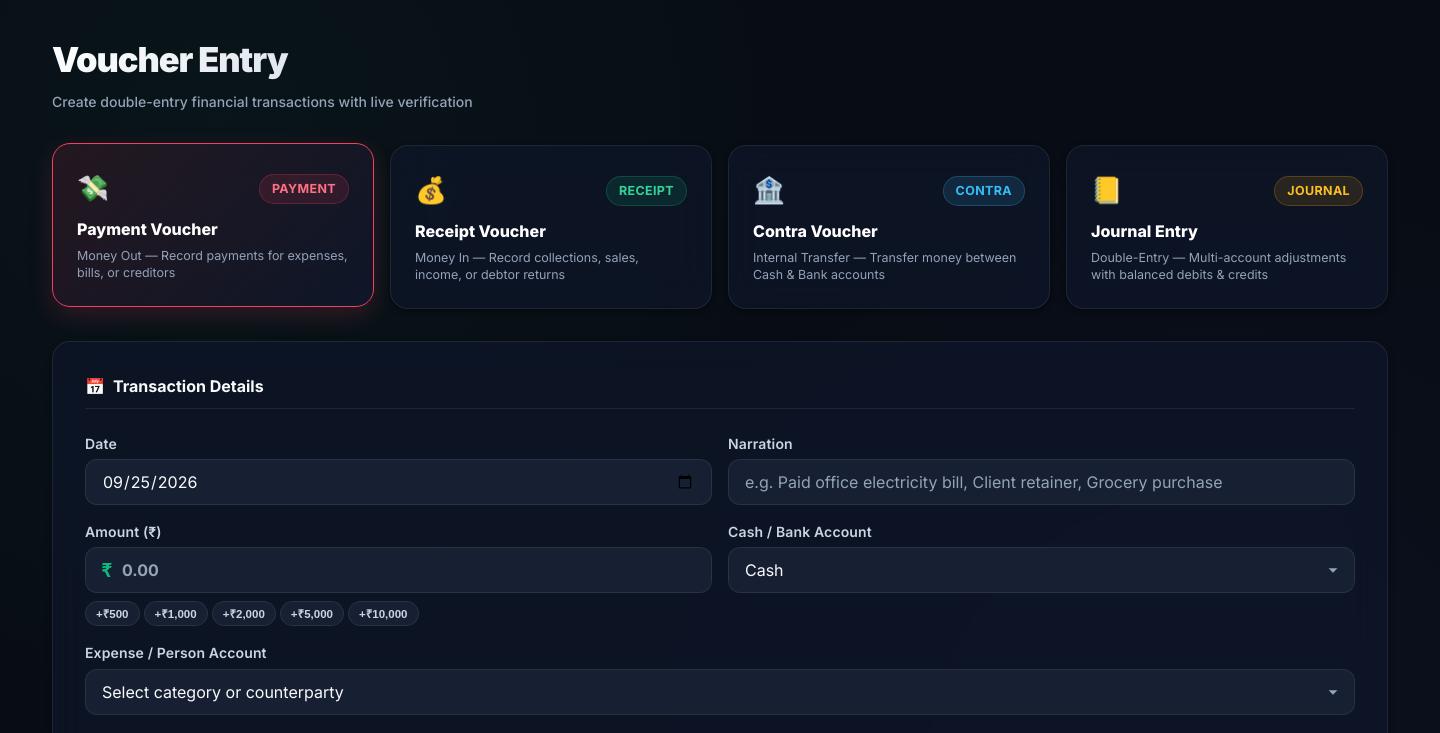
UI: VoucherEntryPage Component › switches between voucher tabs and dynamically updates form layout
Switch to Contra tab
Click the text "Contra Voucher" at (815, 231), box [753,221,878,241]
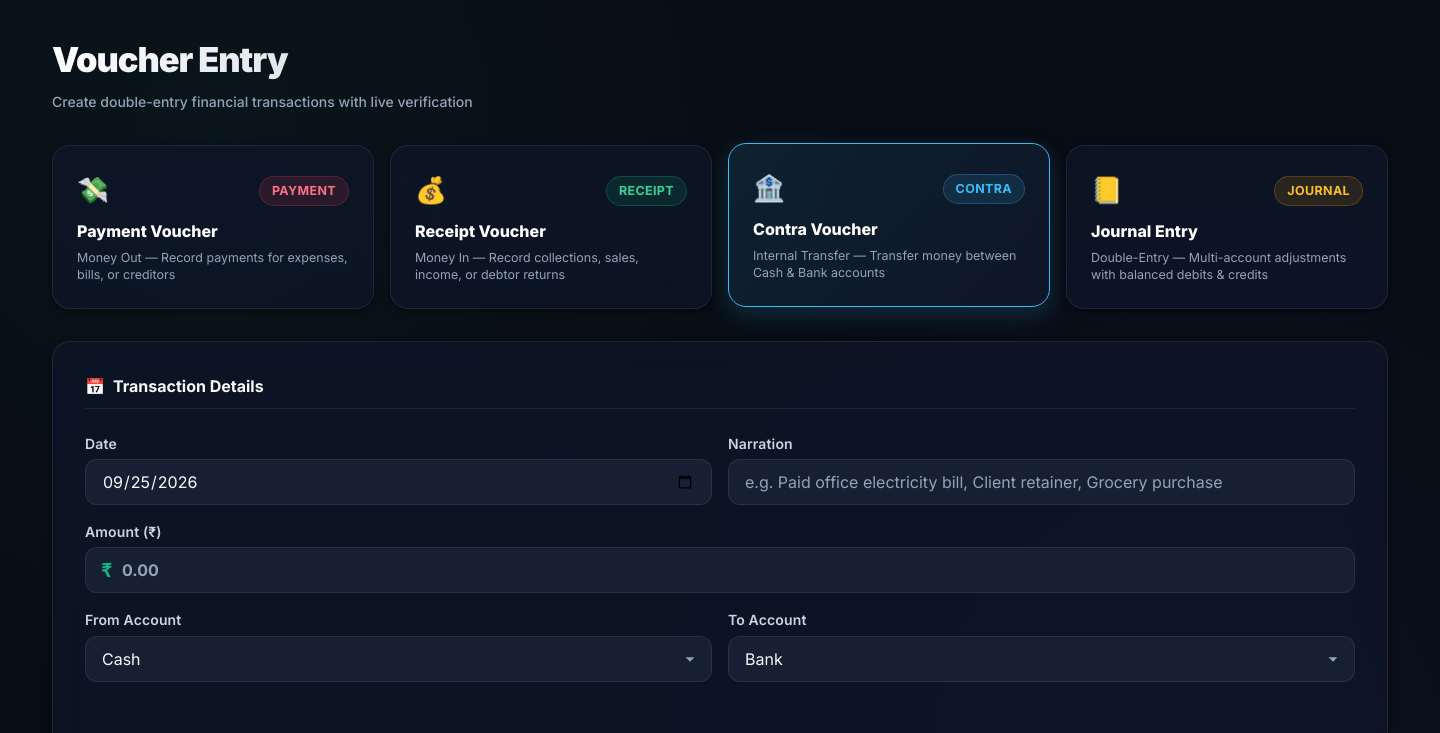
Expected: the text "From Account" is shown, [85,611,181,628]
Expected: the text "To Account" is shown, [728,611,806,628]
Switch to Journal tab
Click the text "Journal Entry" at (1144, 231), box [1091,221,1198,241]
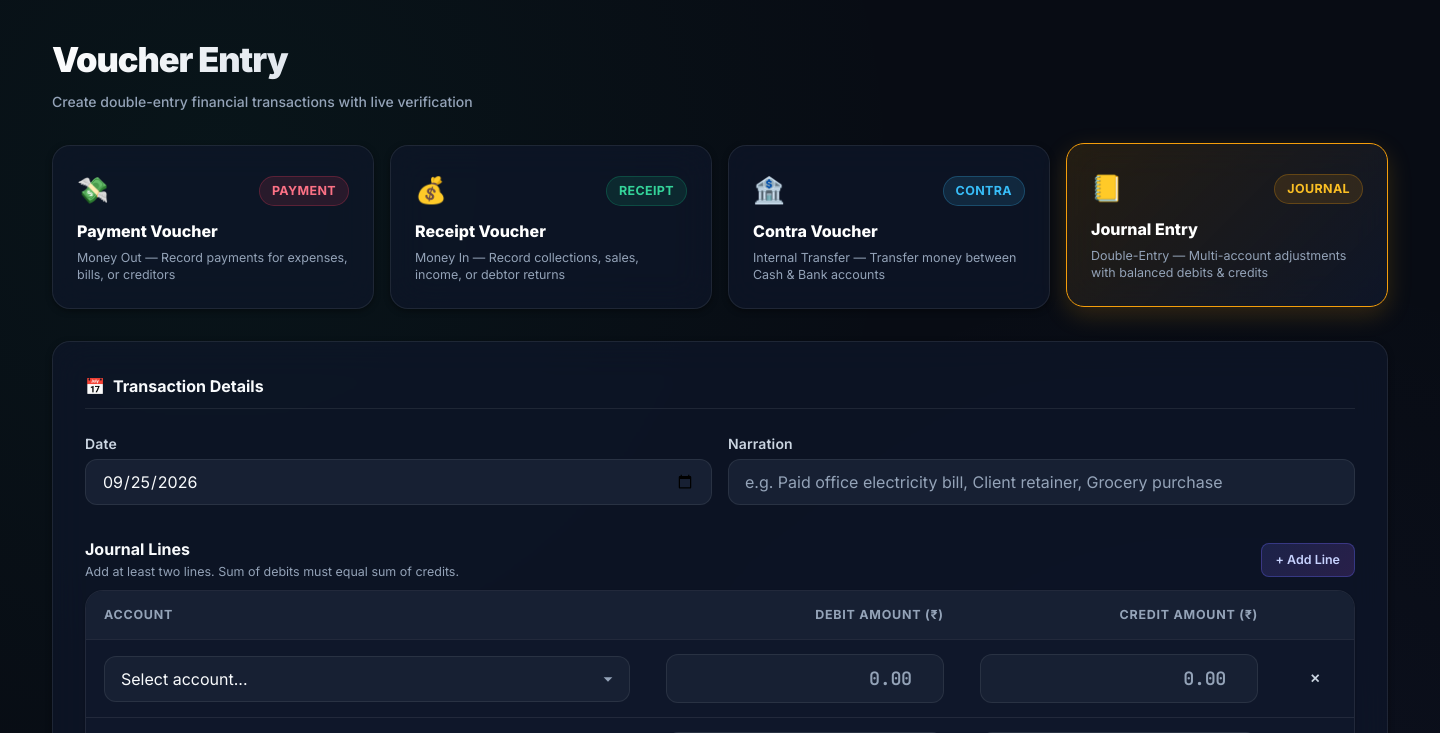
Expected: the text "Journal Lines" is shown, [85,539,190,559]
Expected: the button "+ Add Line" is shown, [1261,543,1355,577]
